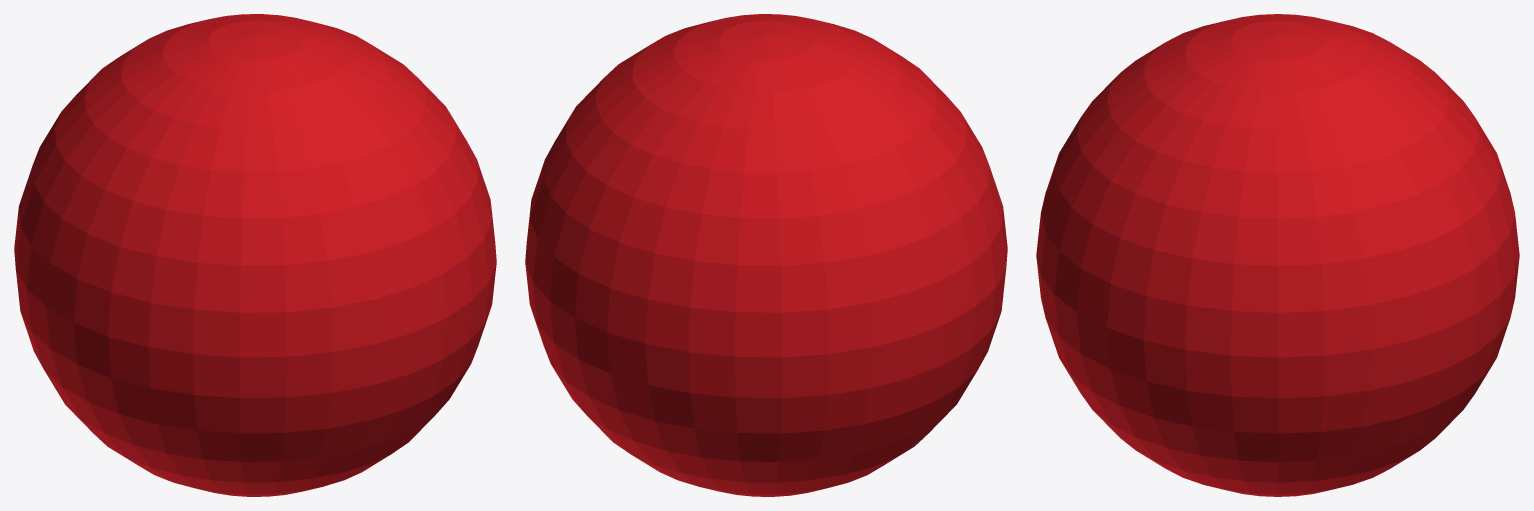
File: babo_explode.fbx
3 views of the same model, side by side, from view 1: azimuth 30°, elevation 25°; view 2: azimuth 150°, elevation 25°; view 3: azimuth 270°, elevation 25° (orthographic).
Visible parts, largest first — view 1: Sphere; view 2: Sphere; view 3: Sphere.
Part boxes in pixels (x1=…): Sphere: x1=14, y1=14, x2=496, y2=496; Sphere: x1=525, y1=14, x2=1007, y2=496; Sphere: x1=1036, y1=14, x2=1519, y2=496.
Size of the model in its own units: 100 by 100 by 100.
